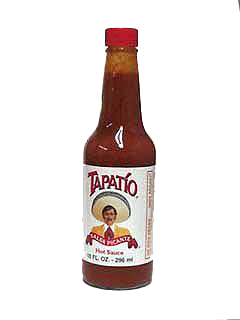grozi_44: (82, 0, 239, 319)
